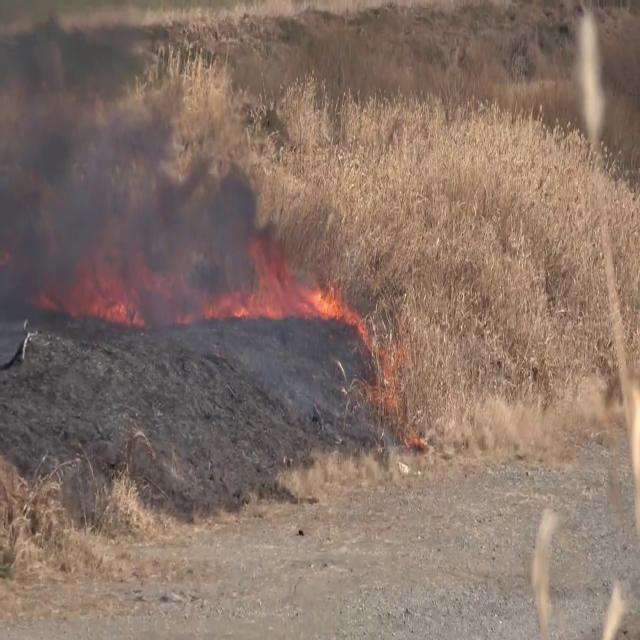Fire: (228, 238, 344, 324), (298, 270, 348, 324)
Smoke: (0, 0, 264, 344)
